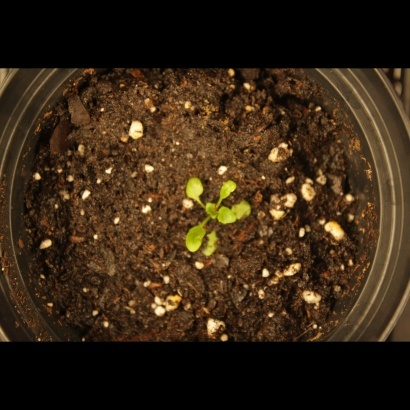leaf: (182, 221, 210, 260), (181, 172, 205, 201), (216, 178, 241, 201), (233, 199, 256, 222), (220, 206, 243, 229), (202, 199, 225, 222)
